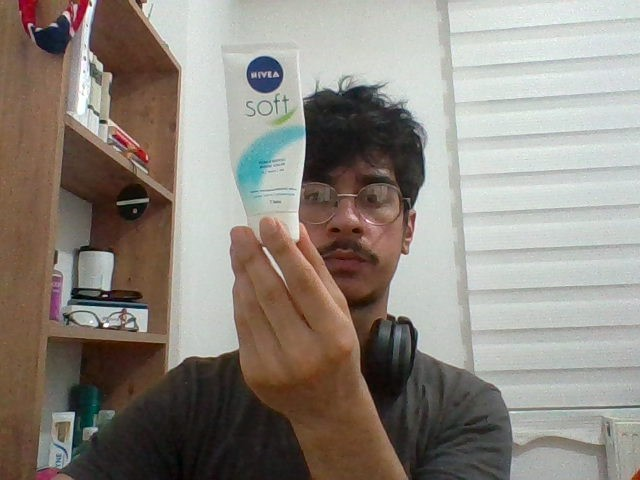NiveaSoft: (220, 45, 307, 240)
